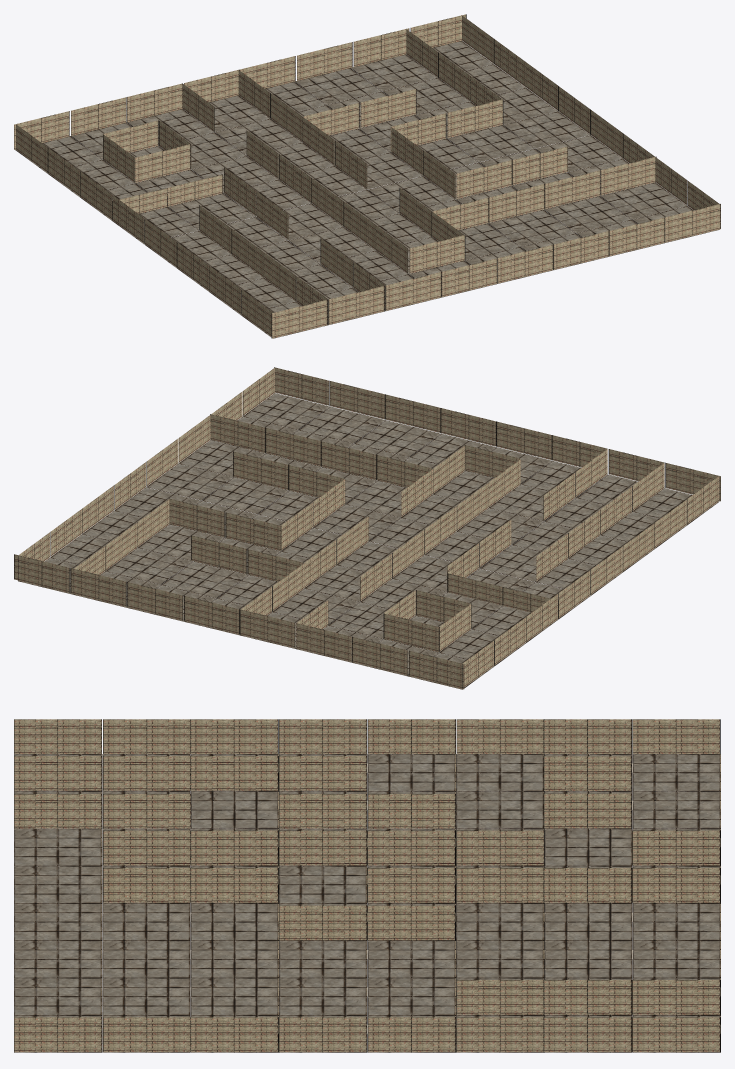
Rendered from test_hall5_mapped.obj.
3 views of the same model, one above another, from view 1: azimuth 30°, elevation 25°; view 2: azimuth 150°, elevation 25°; view 3: azimuth 270°, elevation 25° (orthographic). The views are drawn at different scales.
Visible parts, largest first — view 1: mesh30, mesh61, mesh26, mesh57, mesh60, mesh22, mesh56, mesh37, mesh87, mesh84, mesh83, mesh129 (+105 smaller); view 2: mesh21, mesh28, mesh55, mesh59, mesh25, mesh32, mesh29, mesh87, mesh128, mesh104, mesh112, mesh11 (+106 smaller); view 3: mesh18, mesh19, mesh43, mesh50, mesh51, mesh55, mesh16, mesh22, mesh23, mesh24, mesh26, mesh27 (+60 smaller).
Boxes of the visible parts, left/top/right/bottom form: mesh30: left=600, top=182, right=687, bottom=219; mesh61: left=503, top=111, right=590, bottom=148; mesh26: left=544, top=196, right=631, bottom=233; mesh57: left=447, top=125, right=534, bottom=162; mesh60: left=350, top=54, right=437, bottom=91; mesh22: left=488, top=210, right=575, bottom=246; mesh56: left=294, top=68, right=381, bottom=104; mesh37: left=168, top=193, right=254, bottom=229; mesh87: left=497, top=244, right=553, bottom=283; mesh84: left=328, top=286, right=384, bottom=324; mesh83: left=271, top=299, right=327, bottom=338; mesh129: left=447, top=99, right=503, bottom=137; mesh21: left=354, top=420, right=441, bottom=456; mesh28: left=202, top=477, right=289, bottom=513; mesh55: left=161, top=561, right=248, bottom=598; mesh59: left=106, top=548, right=192, bottom=584; mesh25: left=299, top=406, right=385, bottom=443; mesh32: left=147, top=463, right=233, bottom=500; mesh29: left=243, top=393, right=329, bottom=429; mesh87: left=440, top=408, right=496, bottom=446; mesh128: left=225, top=512, right=281, bottom=550; mesh104: left=70, top=568, right=126, bottom=606; mesh112: left=383, top=613, right=439, bottom=651; mesh11: left=457, top=508, right=543, bottom=544; mesh18: left=102, top=903, right=190, bottom=940; mesh19: left=190, top=903, right=278, bottom=940; mesh43: left=544, top=828, right=632, bottom=865; mesh50: left=456, top=903, right=544, bottom=940; mesh51: left=544, top=903, right=632, bottom=940; mesh55: left=544, top=940, right=632, bottom=977; mesh16: left=279, top=866, right=367, bottom=903; mesh22: left=102, top=940, right=190, bottom=977; mesh23: left=190, top=940, right=278, bottom=977; mesh24: left=279, top=940, right=367, bottom=977; mesh26: left=102, top=978, right=190, bottom=1015; mesh27: left=190, top=978, right=278, bottom=1015.
Size of the model in its own units: 7143 by 390 by 7062.
1 material, 1 textured.
